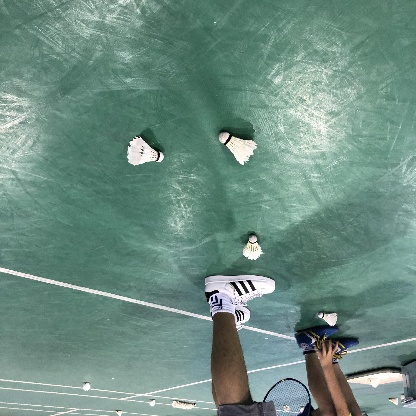ball_single: (219, 132, 258, 165), (127, 136, 164, 165), (243, 235, 262, 260), (318, 312, 338, 327), (172, 401, 196, 410), (83, 382, 90, 391), (149, 399, 155, 407), (115, 410, 123, 416)
